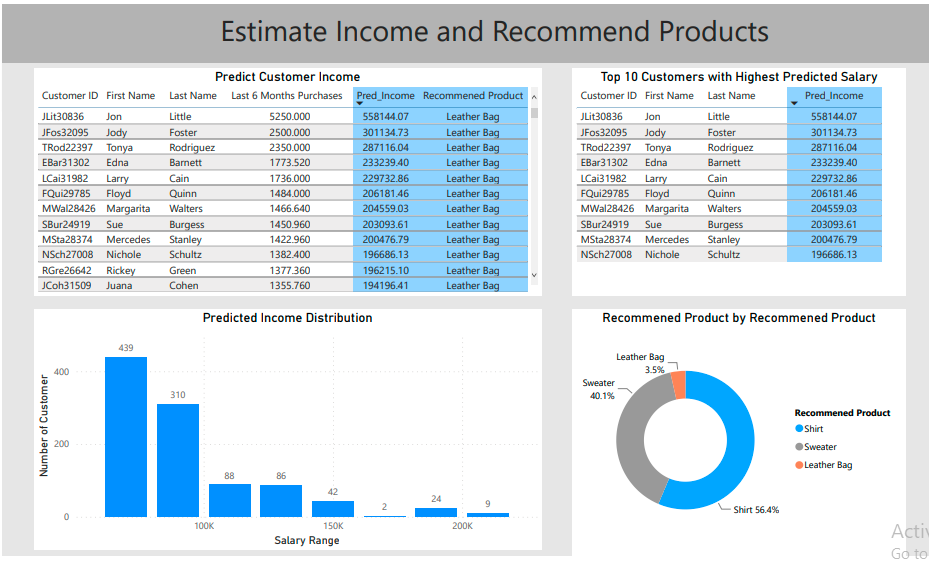

Layout of this report page (visuals, bound fields, positions):
{"tool":"powerbi","page":{"name":"Customer Income and Recommend Product","canvas":[1280,720],"ordinal":1},"visuals":[{"type":"shape","box":[0,0,1280,75.9],"z":0},{"type":"textbox","box":[280.1,3.9,749.9,65.2],"z":1000},{"type":"tableEx","title":"Predict Customer Income","fields":{"Values":["Customer List.Customer ID","Customer List.First Name","Customer List.Last Name","Customer List.Last 6 Months Purchases","Customer List.Pred_Income","Customer List.Recommened Product"]},"box":[41.7,84.4,662.4,295.8],"z":2000},{"type":"columnChart","title":"Predicted Income Distribution","fields":{"Category":["Customer List.Cust_Group"],"Y":["CountNonNull(Customer List.Cust_Group)"]},"box":[41.7,398.9,662.4,313.5],"z":3000},{"type":"tableEx","title":"Top 10 Customers with Highest Predicted Salary","fields":{"Values":["Customer List.Customer ID","Customer List.First Name","Customer List.Last Name","Customer List.Pred_Income"]},"box":[743.6,84.4,435.3,295.8],"z":4000},{"type":"donutChart","fields":{"Category":["Customer List.Recommened Product"],"Y":["CountNonNull(Customer List.Recommened Product)"]},"box":[743.6,398.9,435.3,320.8],"z":5000}]}

Visuals, with their boxes on the page's 1280x720 design canvas (x1, y1, x2, y2). These are canvas units, not pixel positions in the 929x562 screenshot, which may show the page scaled, cropped or inside an application window:
shape: crop(0, 0, 1280, 76)
textbox: crop(280, 4, 1030, 69)
"Predict Customer Income" tableEx: crop(42, 84, 704, 380)
"Predicted Income Distribution" columnChart: crop(42, 399, 704, 712)
"Top 10 Customers with Highest Predicted Salary" tableEx: crop(744, 84, 1179, 380)
donutChart - Customer List.Recommened Product x CountNonNull(Customer List.Recommened Product): crop(744, 399, 1179, 720)
